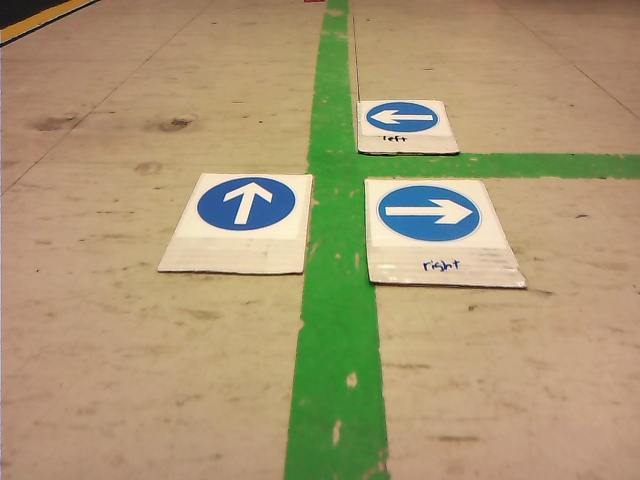GO FORWARD: (198, 177, 295, 230)
TURN LEFT: (366, 102, 438, 132)
TURN RIGHT: (378, 186, 481, 241)
